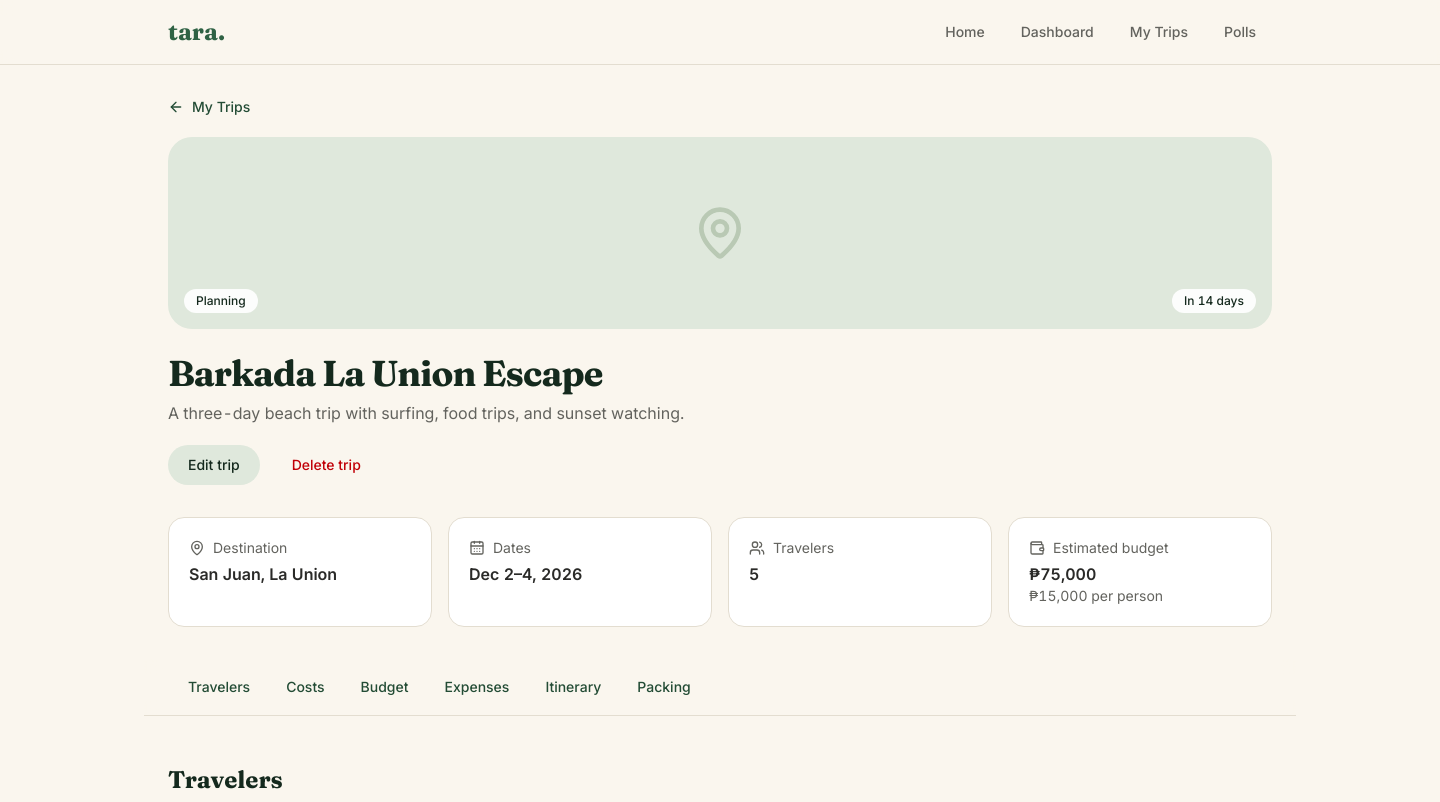
Scenario: persistence › deleting a trip removes everything attached to it, and nothing else
The width and height of the screenshot is (1440, 802).
Click the button "Delete trip" at (326,465), box [272,445,381,485]
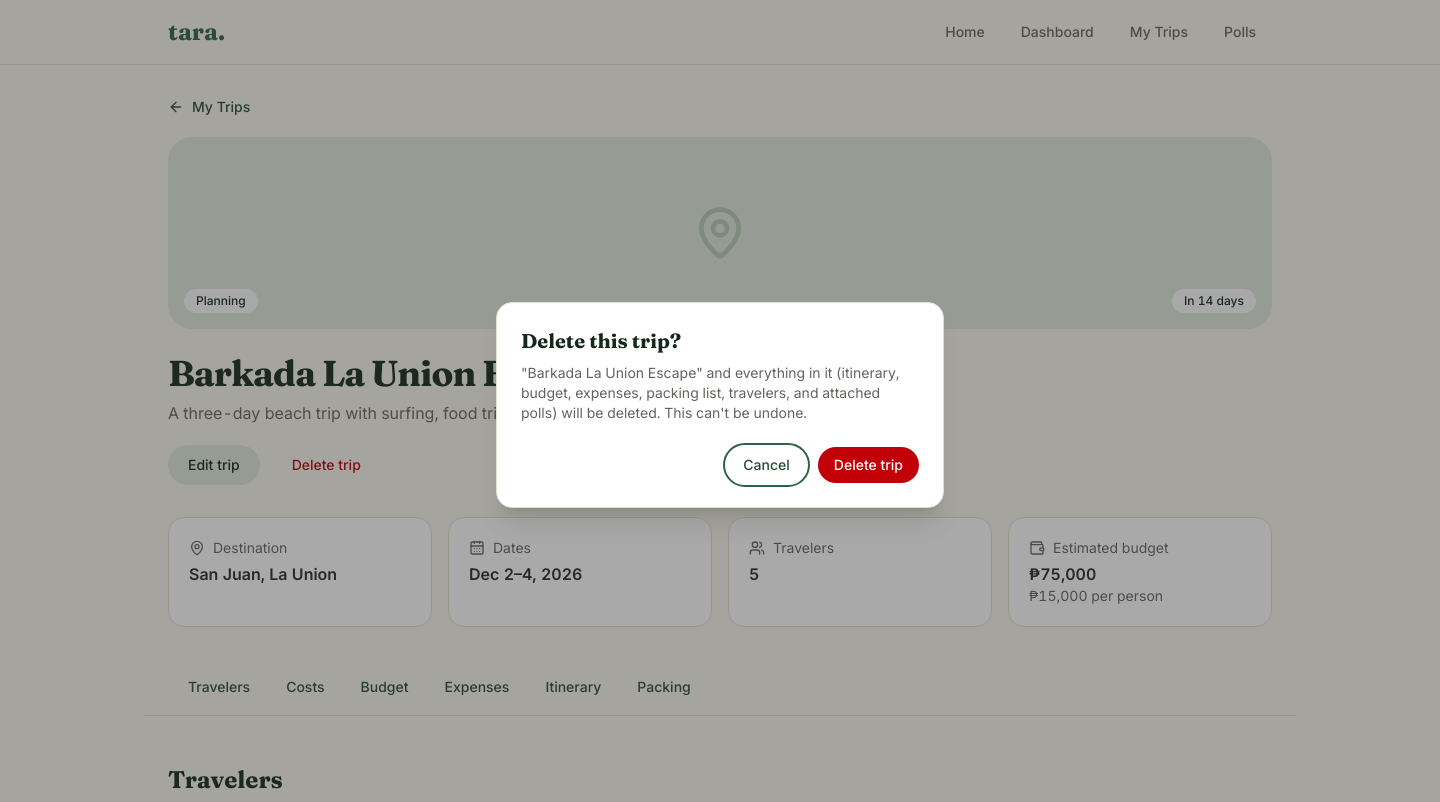
Click the button "Delete trip" at (868,465), box [818,447,919,483]
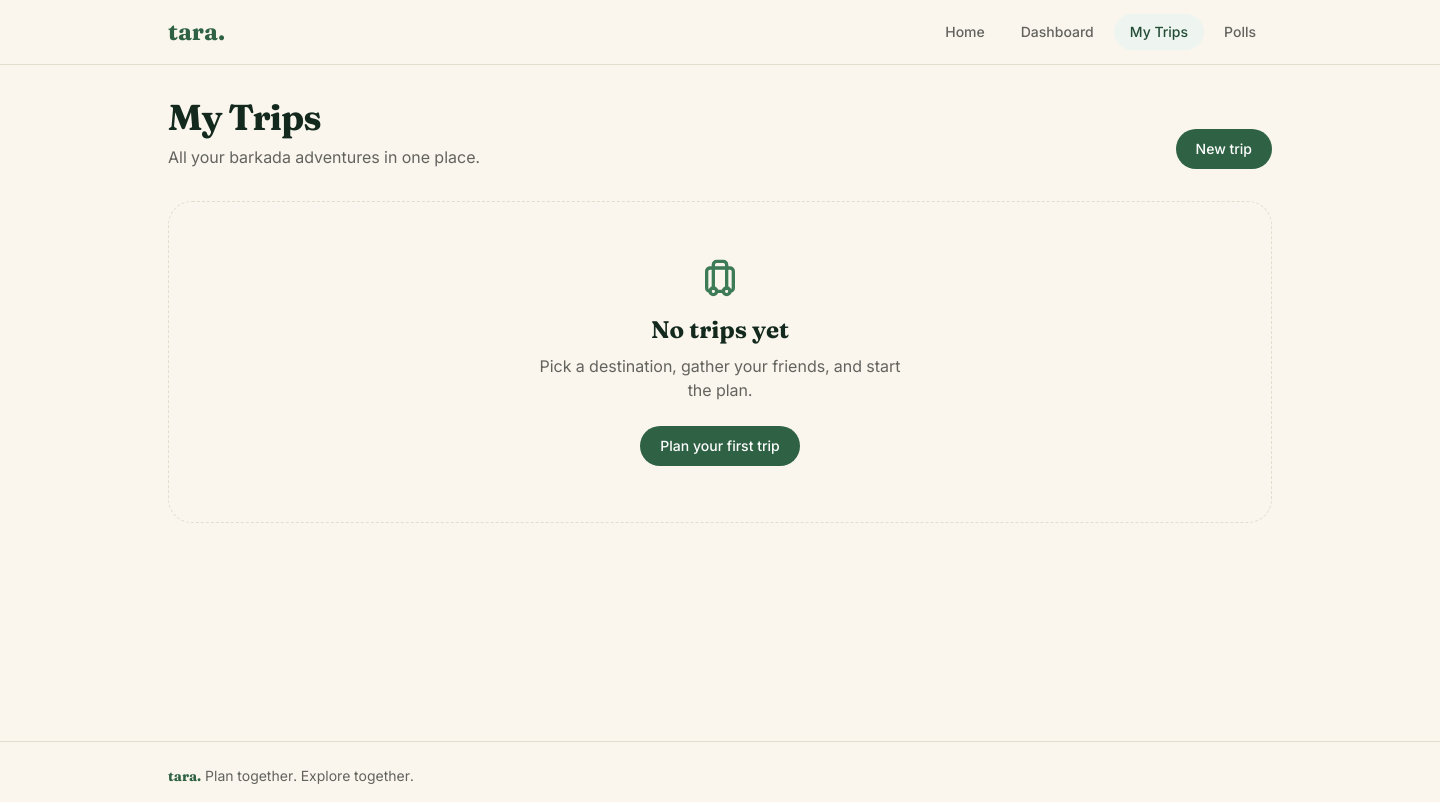
Expected: the heading "No trips yet" is shown, [651,315,789,344]
